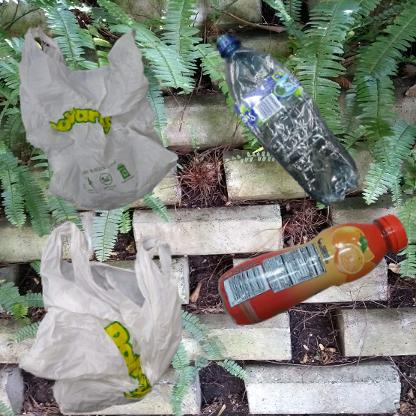bolsa: (10, 213, 212, 416), (10, 10, 189, 226)
botella: (213, 10, 382, 249), (213, 213, 416, 332)
